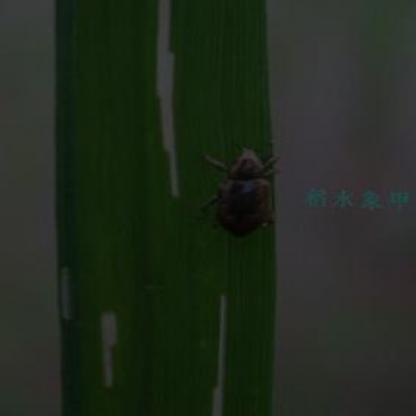rice-bug: (199, 147, 291, 241)
